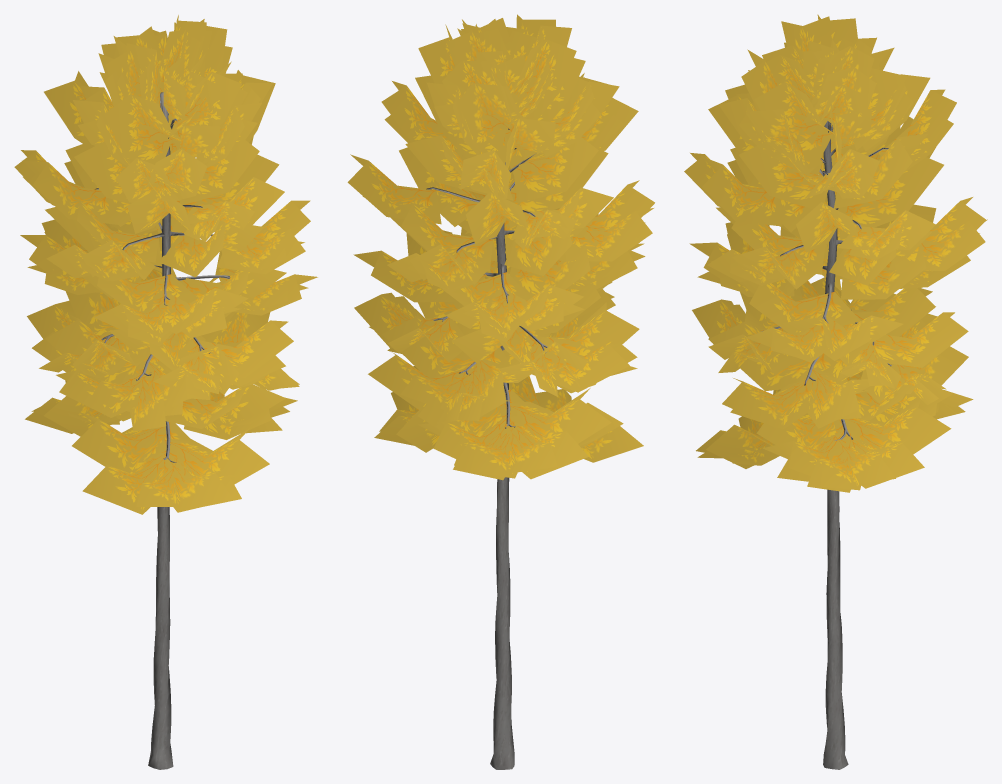
Rendered from Tree_LOD3.fbx.
The picture shows the model from 3 angles, left to right: view 1: azimuth 30°, elevation 25°; view 2: azimuth 150°, elevation 25°; view 3: azimuth 270°, elevation 25°; orthographic projection.
Visible parts, largest first — view 1: leaves_1, bark_base_0; view 2: leaves_1, bark_base_0; view 3: leaves_1, bark_base_0.
Part boxes in pixels (left/top/right/bottom): leaves_1: left=14, top=15, right=317, bottom=514; bark_base_0: left=95, top=92, right=230, bottom=769; leaves_1: left=347, top=14, right=654, bottom=480; bark_base_0: left=426, top=128, right=547, bottom=769; leaves_1: left=684, top=14, right=987, bottom=492; bark_base_0: left=762, top=121, right=891, bottom=769.
Bounding box in the file's own units: 444 × 1177 × 444.
